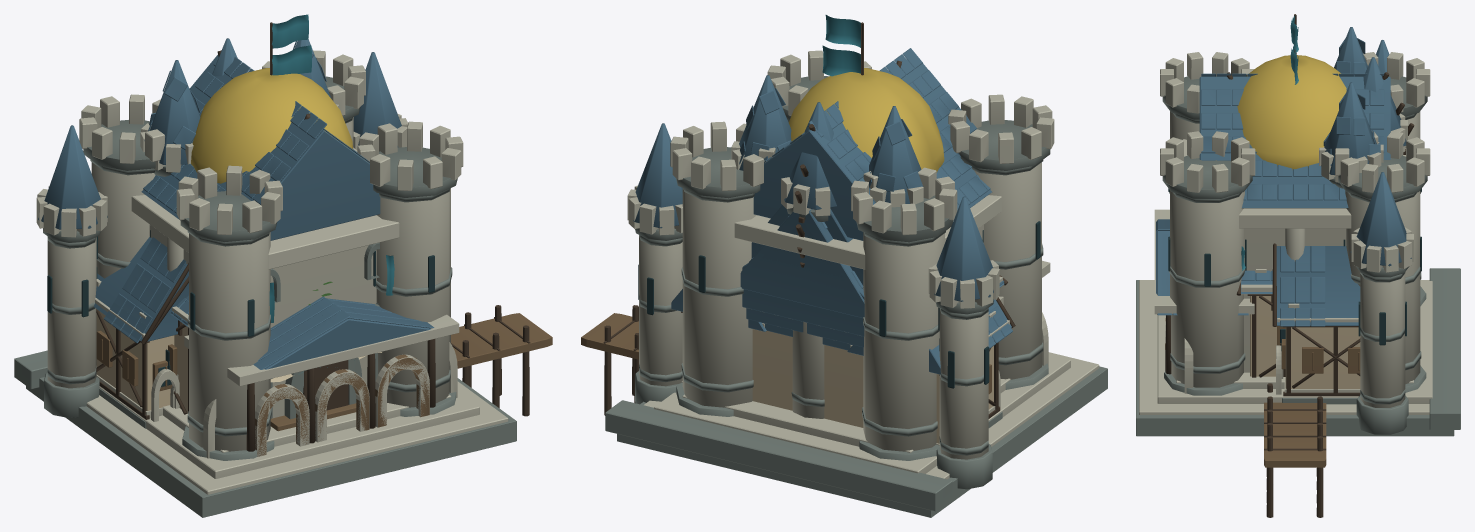
Rendered from frontier-near-VLzXtVxS.glb.
3 views of the same model, side by side, from view 1: azimuth 30°, elevation 25°; view 2: azimuth 150°, elevation 25°; view 3: azimuth 270°, elevation 25° (orthographic). The views are drawn at different scales.
Parts seen in each view (by area): view 1: part_167, part_191, part_166, part_190, part_193, part_169, part_26, part_27, part_235, part_8, asset__building__keep__alder__0_SlateTiles, part_24 (+24 smaller); view 2: part_167, part_24, part_191, part_26, part_166, part_183, part_193, part_645, part_257, part_190, part_181, part_169 (+19 smaller); view 3: part_167, part_191, part_193, part_24, part_166, part_26, asset__building__keep__alder__0_SlateTiles, part_190, part_169, part_196, part_467, part_257 (+26 smaller).
Part boxes in pixels (x1,y1,x2,y2): part_167: (79,50,463,451); part_191: (86,147,508,494); part_166: (83,76,457,460); part_190: (26,302,516,517); part_193: (191,68,353,183); part_169: (141,55,380,240); part_26: (36,114,457,456); part_27: (38,39,401,369); part_235: (95,279,459,421); part_8: (96,332,429,456); asset__building__keep__alder__0_SlateTiles: (143,56,369,213); part_24: (14,228,100,417); part_167: (670,50,1054,451); part_24: (605,207,993,511); part_191: (644,195,1099,479); part_26: (628,187,1046,459); part_166: (676,76,1050,460); part_183: (739,75,921,317); part_193: (788,68,944,172); part_645: (740,107,920,317); part_257: (627,185,1047,459); part_190: (617,366,1107,517); part_181: (752,329,863,427); part_169: (753,60,991,240); part_167: (1160,52,1430,387); part_191: (1139,139,1432,414); part_193: (1237,55,1346,169); part_24: (1356,266,1460,434); part_166: (1162,76,1427,395); part_26: (1165,227,1413,407); asset__building__keep__alder__0_SlateTiles: (1201,73,1384,200); part_190: (1136,280,1454,436); part_169: (1199,76,1390,208); part_196: (1264,402,1326,467); part_467: (1276,246,1360,325); part_257: (1185,117,1413,406).
Size of the model in its own units: 14.82 by 14 by 10.39.
